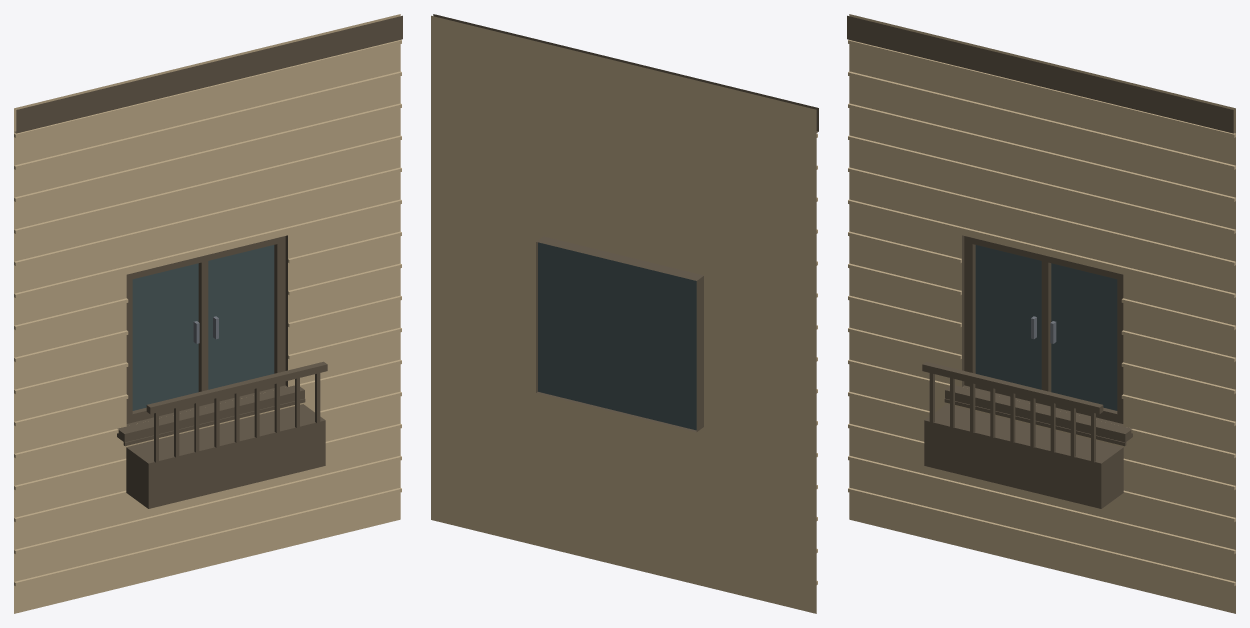
Rendered from mid-w1_close.fbx.
3 renders of one model, left to right at view 1: azimuth 30°, elevation 25°; view 2: azimuth 150°, elevation 25°; view 3: azimuth 330°, elevation 25°, orthographic.
Parts seen in each view (by area): view 1: a2015/0/mid-w1_close; view 2: a2015/0/mid-w1_close; view 3: a2015/0/mid-w1_close.
Part boxes in pixels (x1=…): a2015/0/mid-w1_close: x1=14, y1=14, x2=402, y2=613; a2015/0/mid-w1_close: x1=431, y1=14, x2=818, y2=613; a2015/0/mid-w1_close: x1=847, y1=14, x2=1235, y2=613.
Size of the model in its own units: 2.4 by 3 by 0.42.
